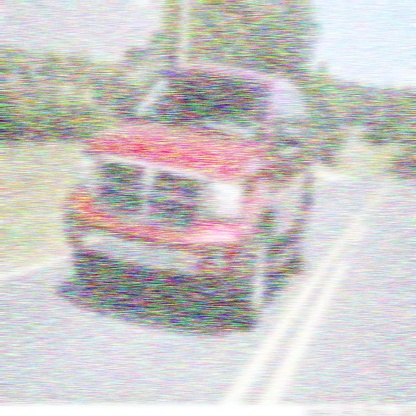Vehicle: (66, 63, 314, 333)
